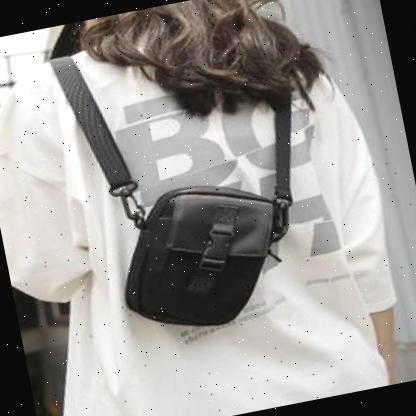bag: (78, 130, 316, 355)
